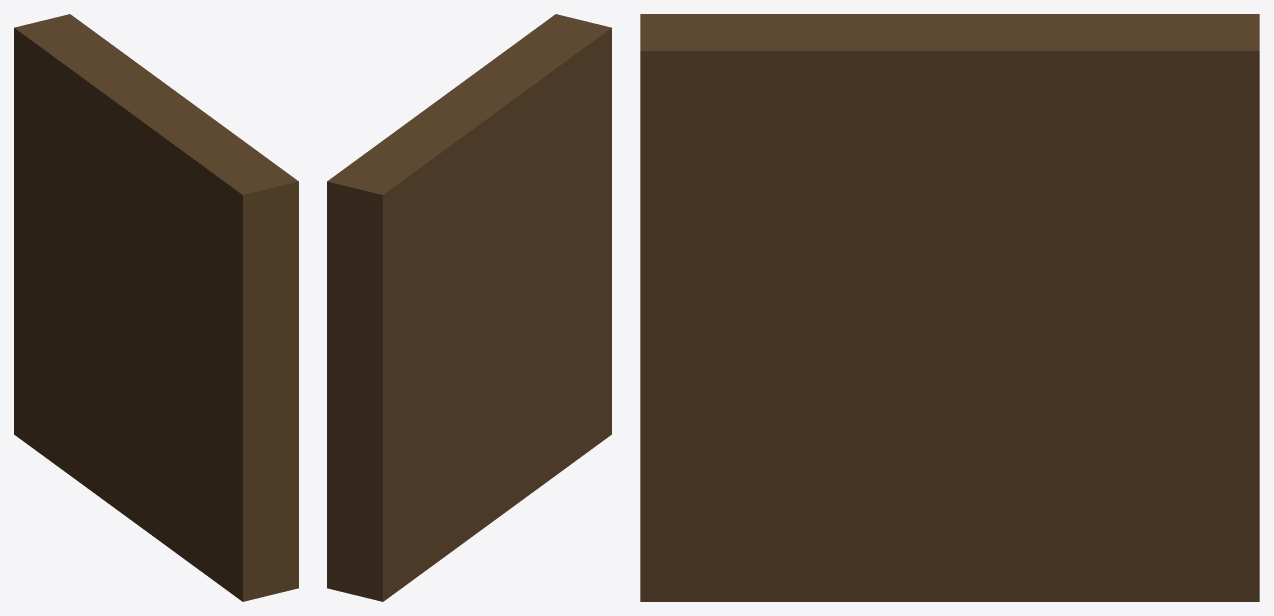
The model's file is strap-leather.glb.
3 renders of one model, left to right at view 1: azimuth 30°, elevation 25°; view 2: azimuth 150°, elevation 25°; view 3: azimuth 270°, elevation 25°, orthographic. The views are drawn at different scales.
Visible parts, largest first — view 1: root; view 2: root; view 3: root.
Part boxes in pixels (x1,y1,x2,y2): root: [14, 14, 298, 601]; root: [327, 14, 611, 601]; root: [640, 14, 1259, 601].
Size of the model in its own units: 0.15 by 1.04 by 1.06.
Materials: 1 (1 with a texture image).
